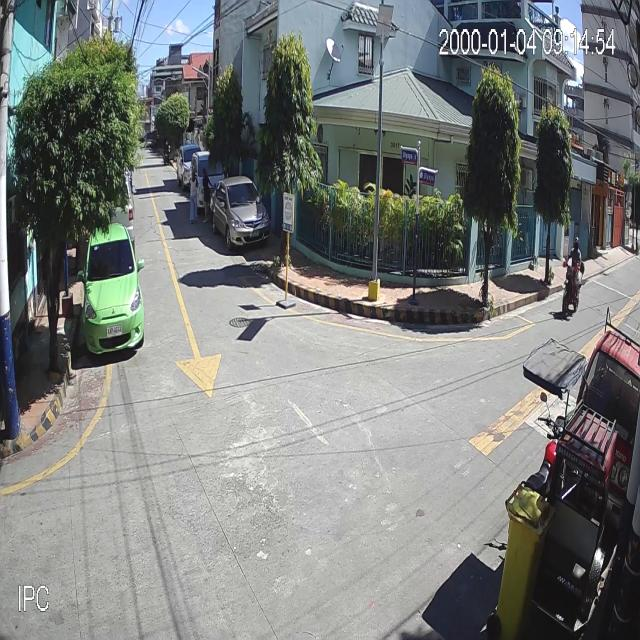walking: (201, 165, 213, 225), (188, 167, 199, 226)
